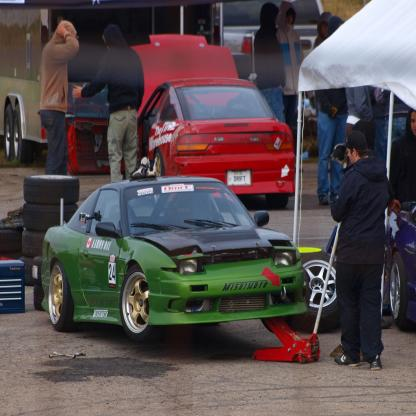Car: (38, 171, 318, 352), (69, 35, 297, 204), (206, 1, 326, 100), (387, 200, 416, 333)
